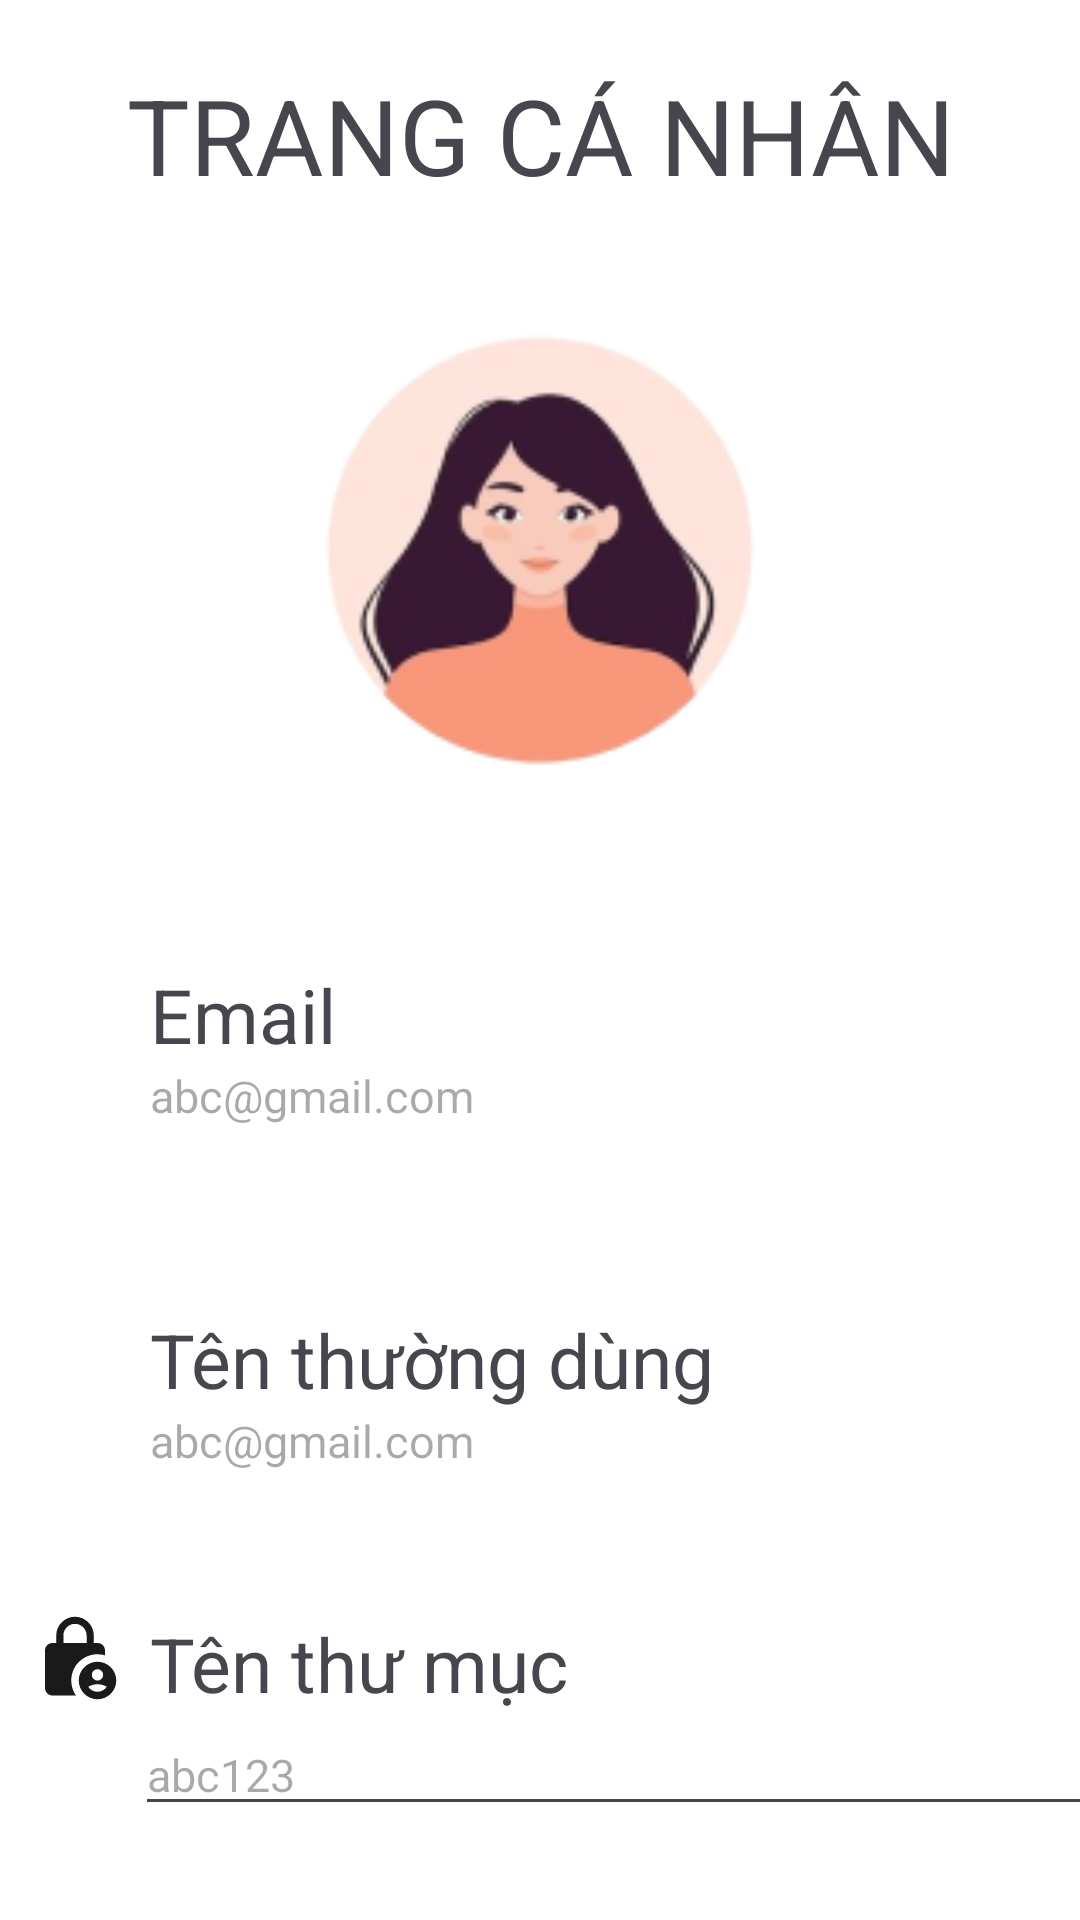

Icons on this 1080×1920 Android screen, each with the point to tap as (x=x, y=y):
lock person: (x=81, y=1658)
